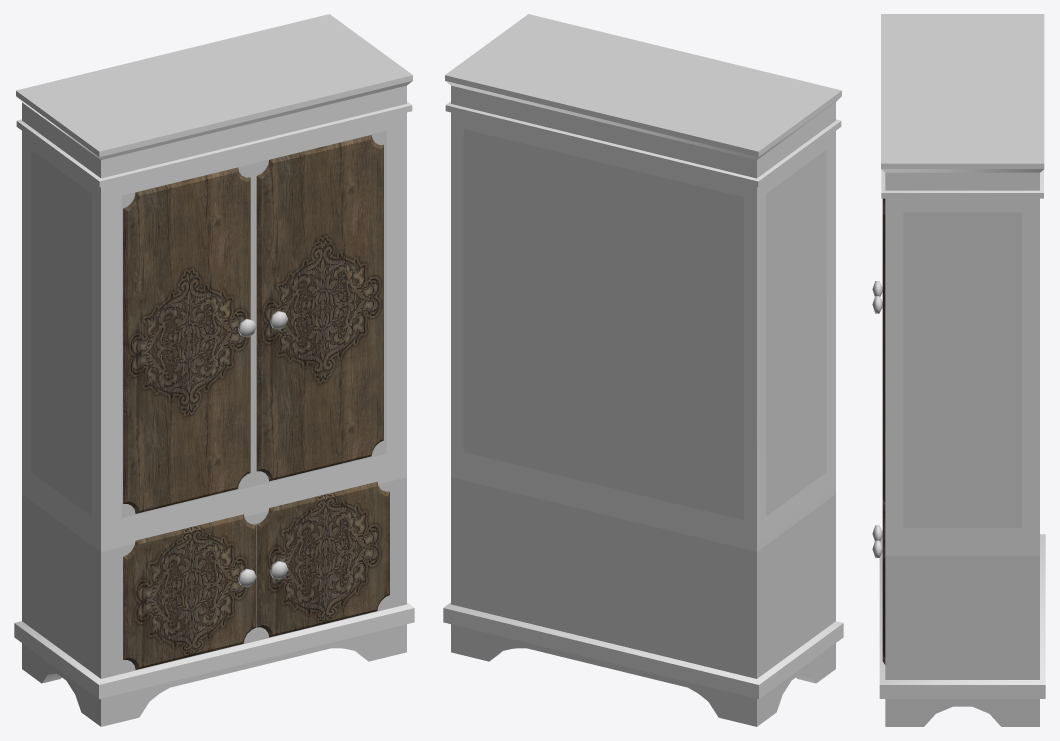
The model's file is wardrobe2.fbx.
3 renders of one model, left to right at view 1: azimuth 30°, elevation 25°; view 2: azimuth 150°, elevation 25°; view 3: azimuth 270°, elevation 25°, orthographic. The views are drawn at different scales.
Visible parts, largest first — view 1: polySurface1525; view 2: polySurface1525; view 3: polySurface1525.
Boxes of the visible parts, x1,y1,x2,y2 form: polySurface1525: [14, 14, 414, 726]; polySurface1525: [443, 14, 843, 726]; polySurface1525: [872, 14, 1045, 726].
Size of the model in its own units: 1.54 by 2.69 by 0.7476.
